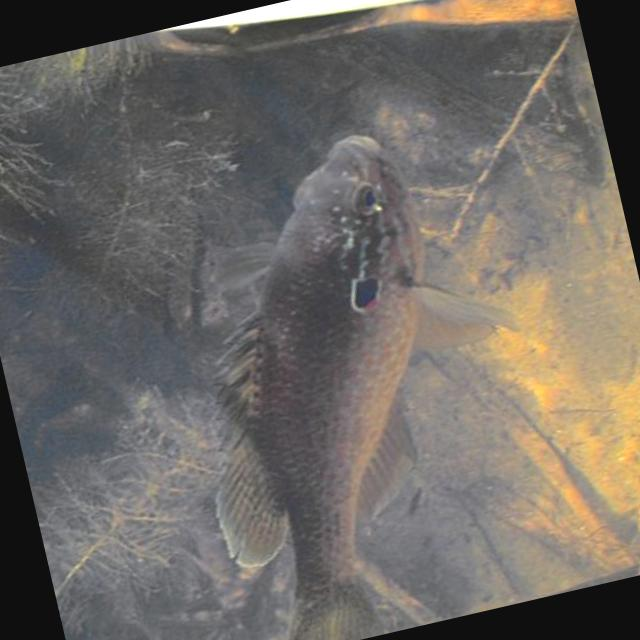Gunes Levregi: (131, 117, 520, 640)
